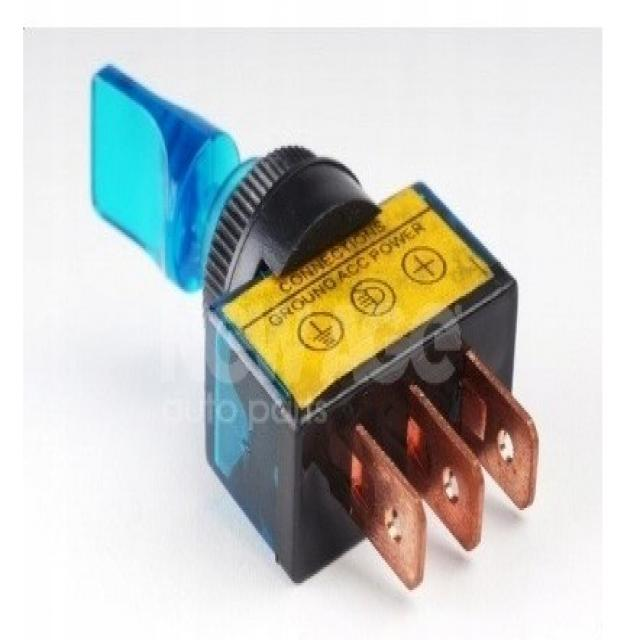toggle switch: (93, 61, 385, 320)
